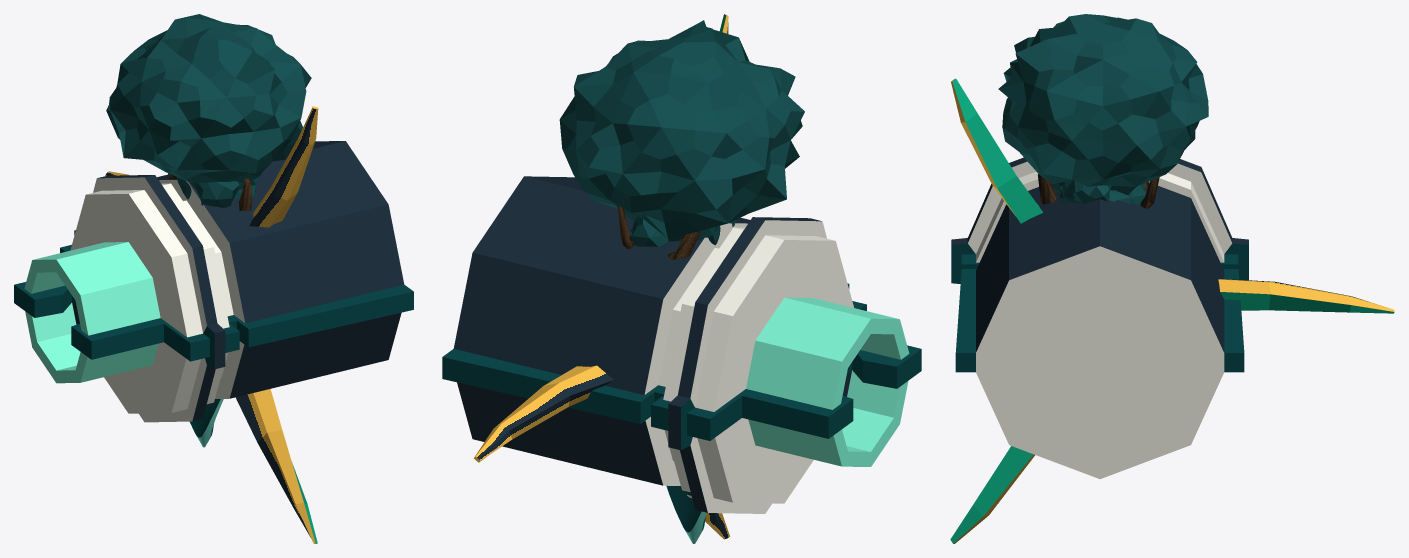
Rendered from Buildings_Maincollectin.fbx.
3 views of the same model, side by side, from view 1: azimuth 30°, elevation 25°; view 2: azimuth 150°, elevation 25°; view 3: azimuth 270°, elevation 25° (orthographic). The views are drawn at different scales.
Visible parts, largest first — view 1: ConnectorEnd, Cube, WindMillBlades, Tree_1, Building_3; view 2: ConnectorEnd, Cube, WindMillBlades, Building_3, Tree_1; view 3: ConnectorEnd, Cube, WindMillBlades, Tree_1.
Boxes of the visible parts, left/top/right/bottom form: ConnectorEnd: left=14, top=141, right=413, bottom=422; Cube: left=106, top=14, right=311, bottom=210; WindMillBlades: left=105, top=106, right=318, bottom=543; Tree_1: left=176, top=173, right=261, bottom=207; Building_3: left=190, top=399, right=223, bottom=447; ConnectorEnd: left=442, top=176, right=921, bottom=513; Cube: left=559, top=20, right=804, bottom=260; WindMillBlades: left=474, top=14, right=729, bottom=539; Building_3: left=666, top=485, right=706, bottom=543; Tree_1: left=630, top=216, right=735, bottom=246; ConnectorEnd: left=951, top=157, right=1248, bottom=478; Cube: left=998, top=14, right=1208, bottom=208; WindMillBlades: left=950, top=78, right=1394, bottom=543; Tree_1: left=1051, top=180, right=1146, bottom=204.
Bounding box in the file's own units: 928 × 1442 × 1151.
